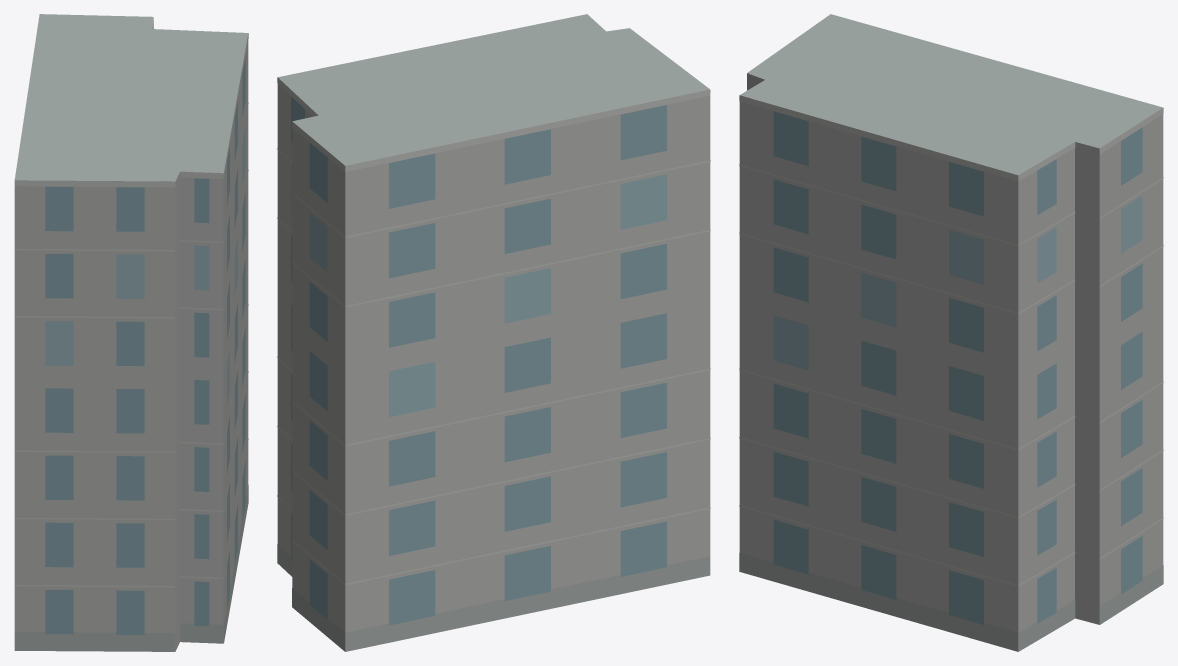
File: survey-upis-32808722.glb
3 views of the same model, side by side, from view 1: azimuth 30°, elevation 25°; view 2: azimuth 150°, elevation 25°; view 3: azimuth 270°, elevation 25° (orthographic). The views are drawn at different scales.
Visible parts, largest first — view 1: survey-upis-32808722.tmp; view 2: survey-upis-32808722.tmp; view 3: survey-upis-32808722.tmp.
Boxes of the visible parts, x1,y1,x2,y2 form: survey-upis-32808722.tmp: (14, 14, 248, 651); survey-upis-32808722.tmp: (277, 14, 710, 651); survey-upis-32808722.tmp: (739, 14, 1163, 651).
Bounding box in the file's own units: 13.89 × 19.1 × 15.42.
